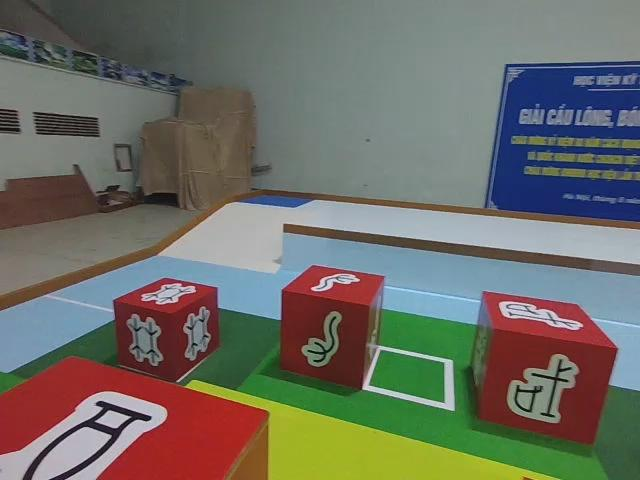R2 Real: (1, 349, 271, 480), (469, 287, 622, 450), (272, 262, 390, 392), (110, 271, 220, 378)
